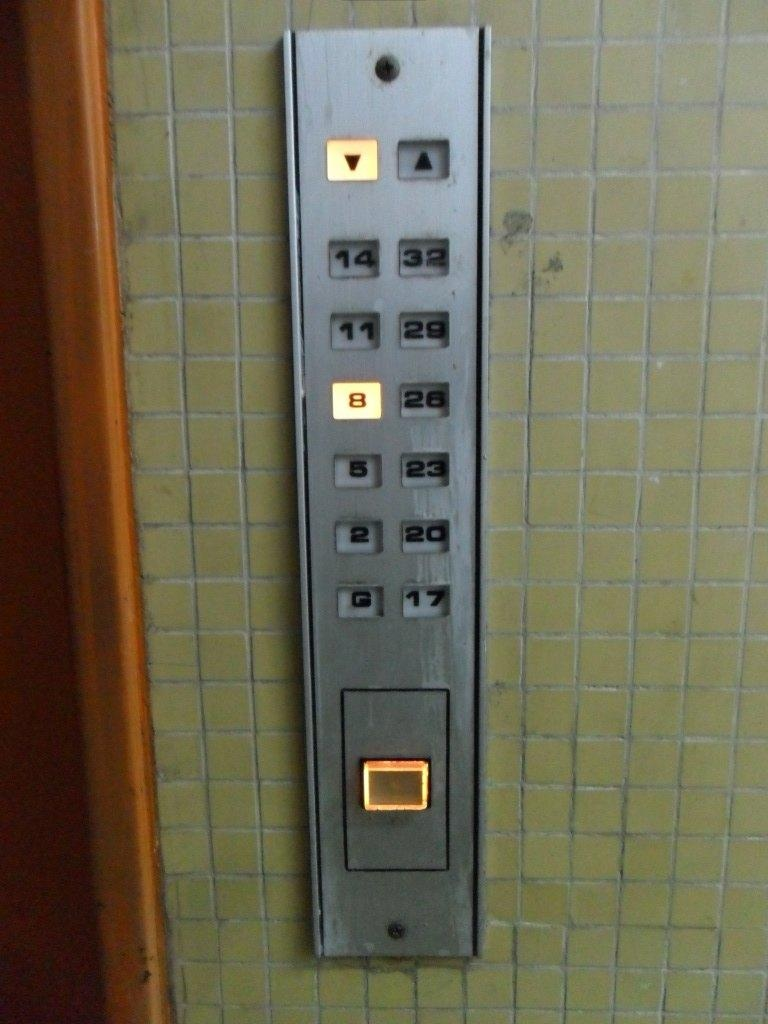11: (329, 308, 382, 352)
14: (327, 235, 382, 280)
17: (400, 581, 452, 618)
2: (333, 516, 386, 556)
20: (398, 516, 452, 554)
23: (399, 449, 452, 489)
26: (398, 379, 451, 420)
29: (397, 308, 451, 351)
32: (396, 234, 451, 279)
5: (331, 450, 385, 490)
8: (330, 380, 383, 419)
G: (335, 582, 388, 620)
down: (325, 136, 379, 182)
empty: (358, 755, 433, 814)
up: (396, 136, 451, 180)
